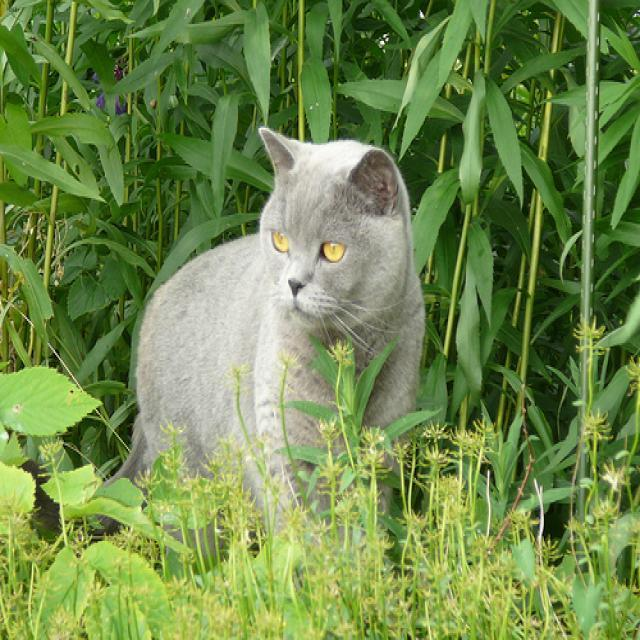British_Shorthair: (254, 125, 418, 345)
